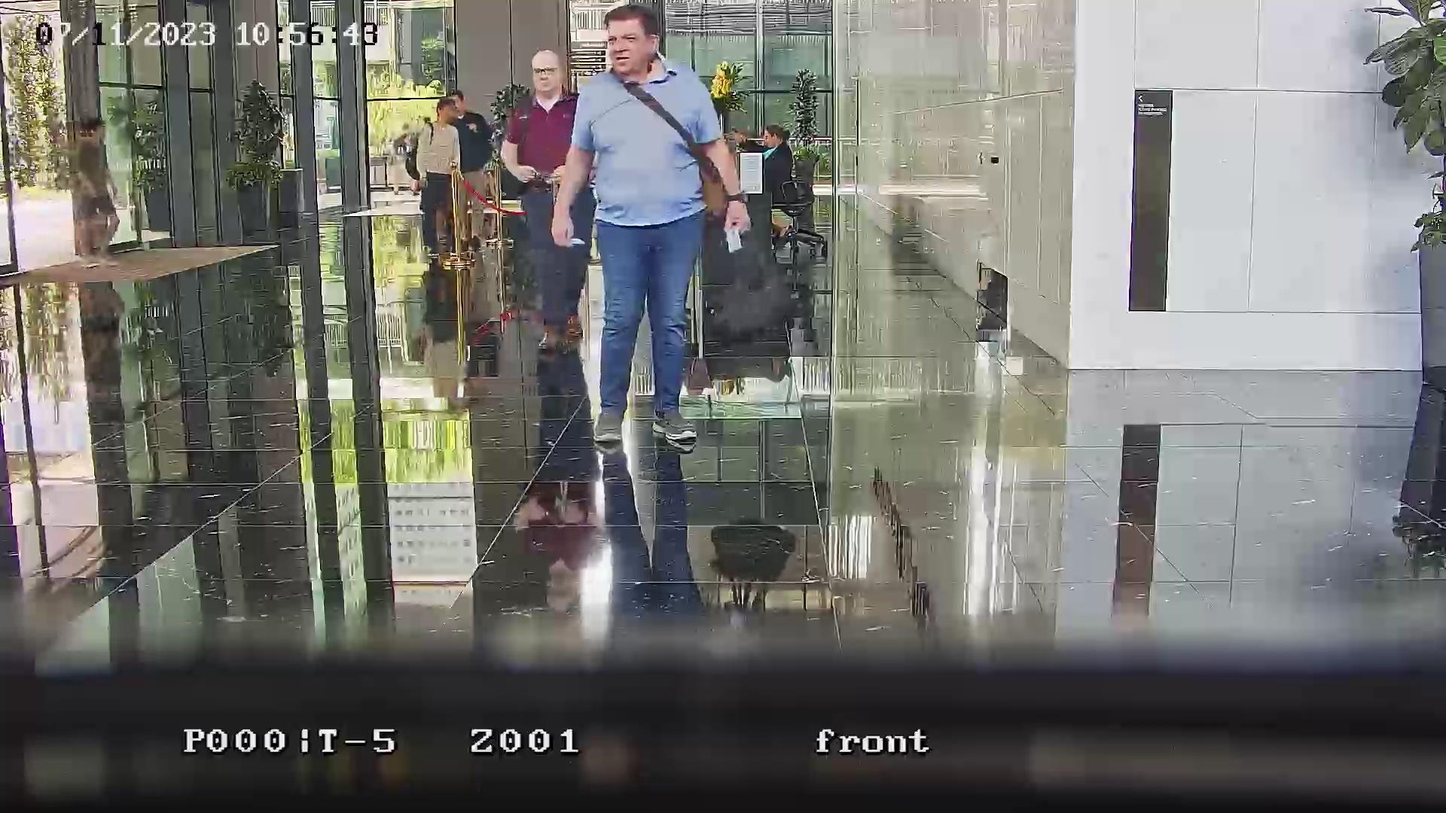person: (550, 2, 749, 454), (502, 46, 587, 355), (413, 92, 467, 260), (75, 119, 119, 268), (760, 123, 793, 247)
